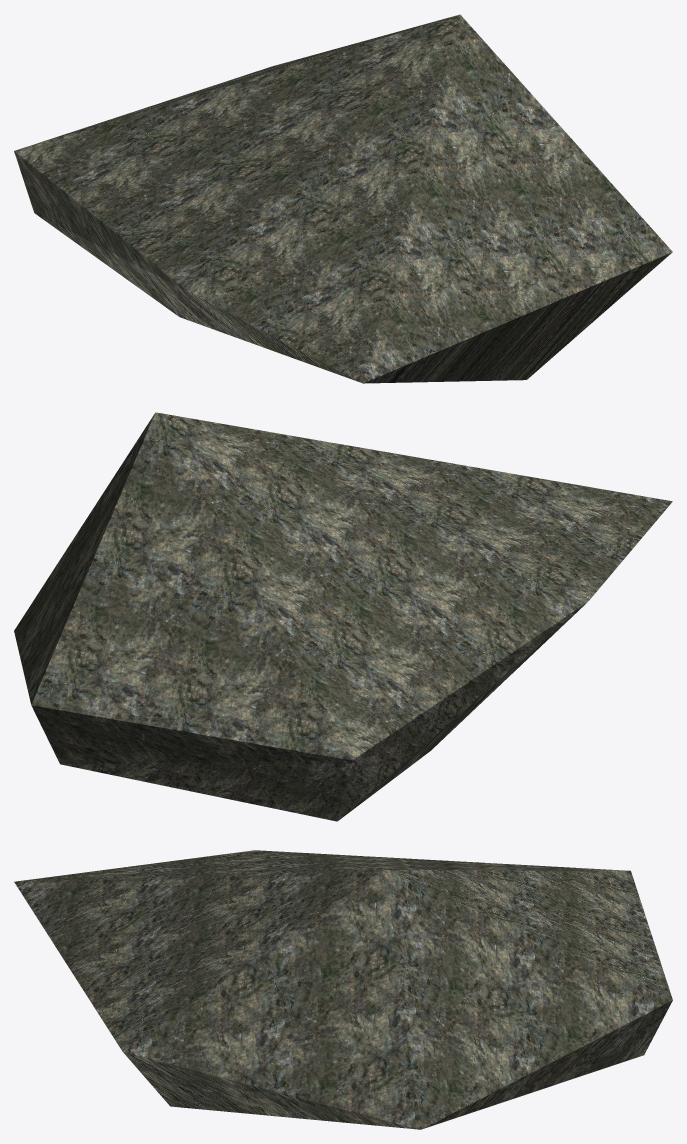
The model's file is mtns_rock_grey_a8_l3.fbx.
The picture shows the model from 3 angles, top to bottom: view 1: azimuth 30°, elevation 25°; view 2: azimuth 150°, elevation 25°; view 3: azimuth 270°, elevation 25°; orthographic projection. The views are drawn at different scales.
Visible parts, largest first — view 1: mesh_node; view 2: mesh_node; view 3: mesh_node.
Part boxes in pixels (box(x1,y1,x2,y2)): mesh_node: box(14, 14, 672, 383); mesh_node: box(14, 412, 672, 821); mesh_node: box(14, 850, 672, 1129).
Size of the model in its own units: 1.52 by 0.8755 by 2.03.
Materials: 1 (1 with a texture image).
